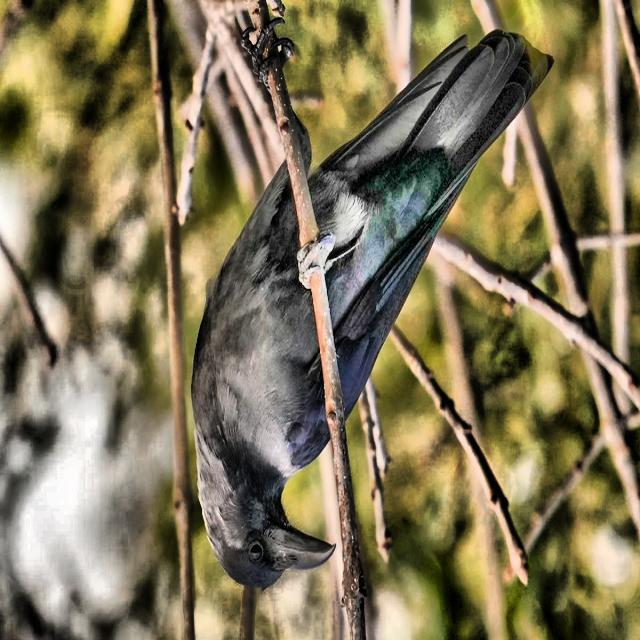crow: (175, 2, 575, 630)
